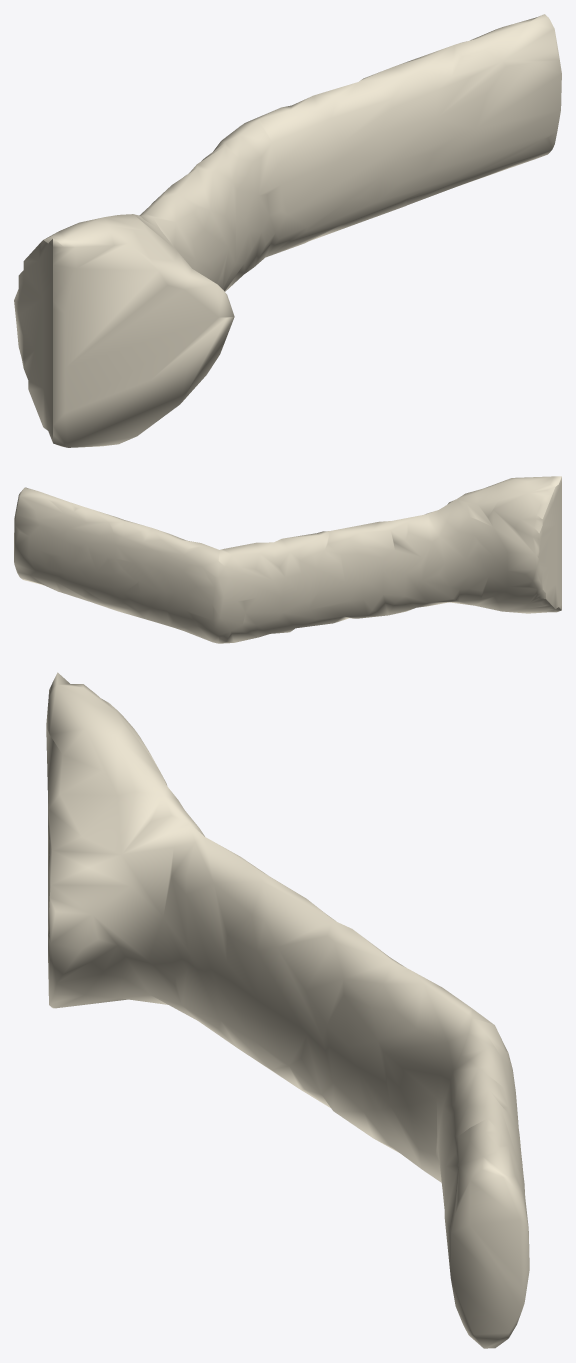
The model's file is jugal_r.glb.
3 renders of one model, top to bottom at view 1: azimuth 30°, elevation 25°; view 2: azimuth 150°, elevation 25°; view 3: azimuth 270°, elevation 25°, orthographic. The views are drawn at different scales.
Parts seen in each view (by area): view 1: geometry_0; view 2: geometry_0; view 3: geometry_0.
Boxes of the visible parts, box(x1,y1,x2,y2) form: geometry_0: box(14, 14, 561, 447); geometry_0: box(14, 476, 561, 643); geometry_0: box(46, 672, 529, 1348).
Bounding box in the file's own units: 0.3101 × 0.1013 × 0.1502.
